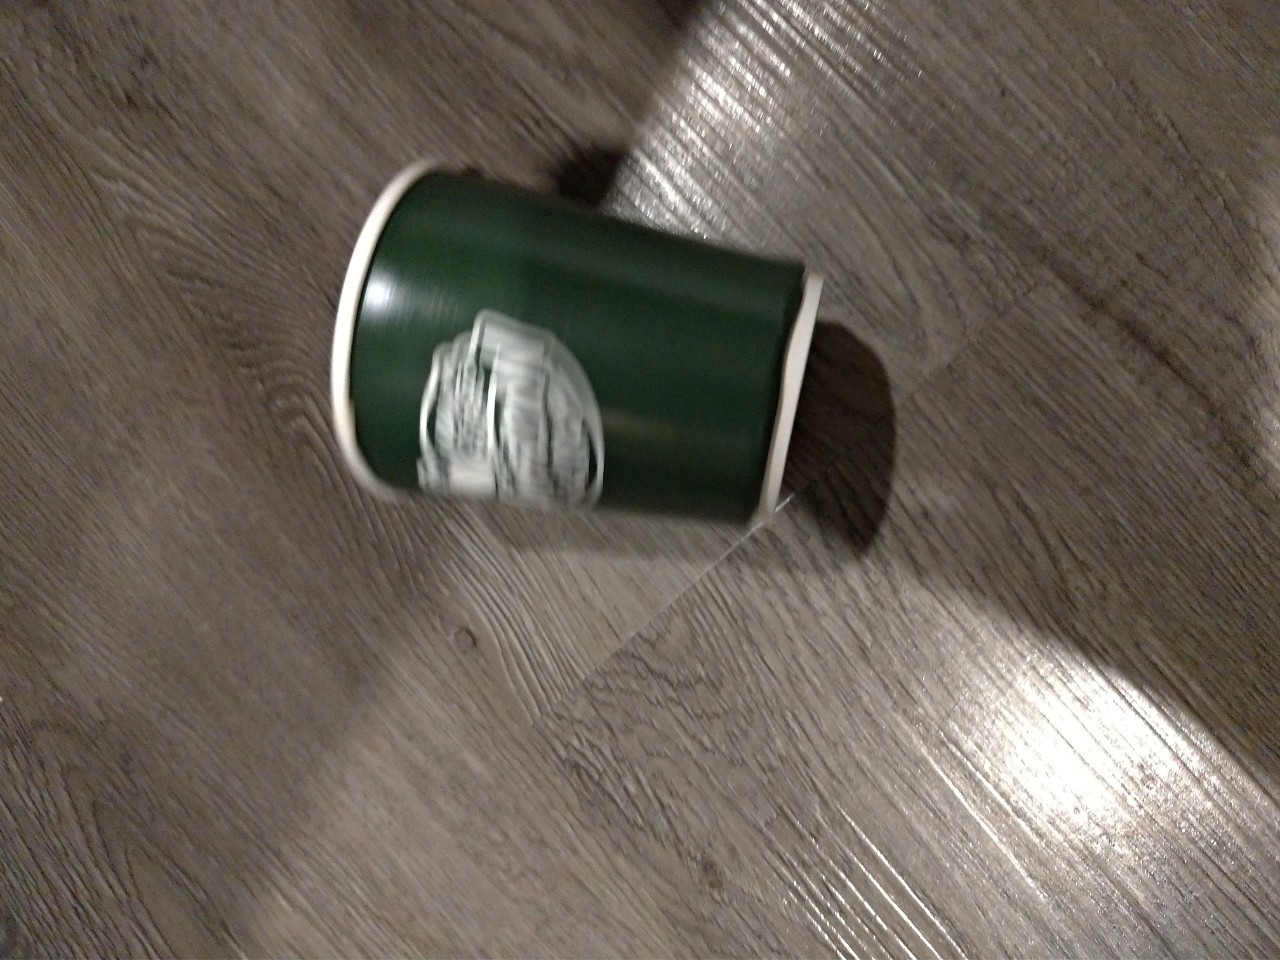PaperCup: (326, 158, 823, 530)
